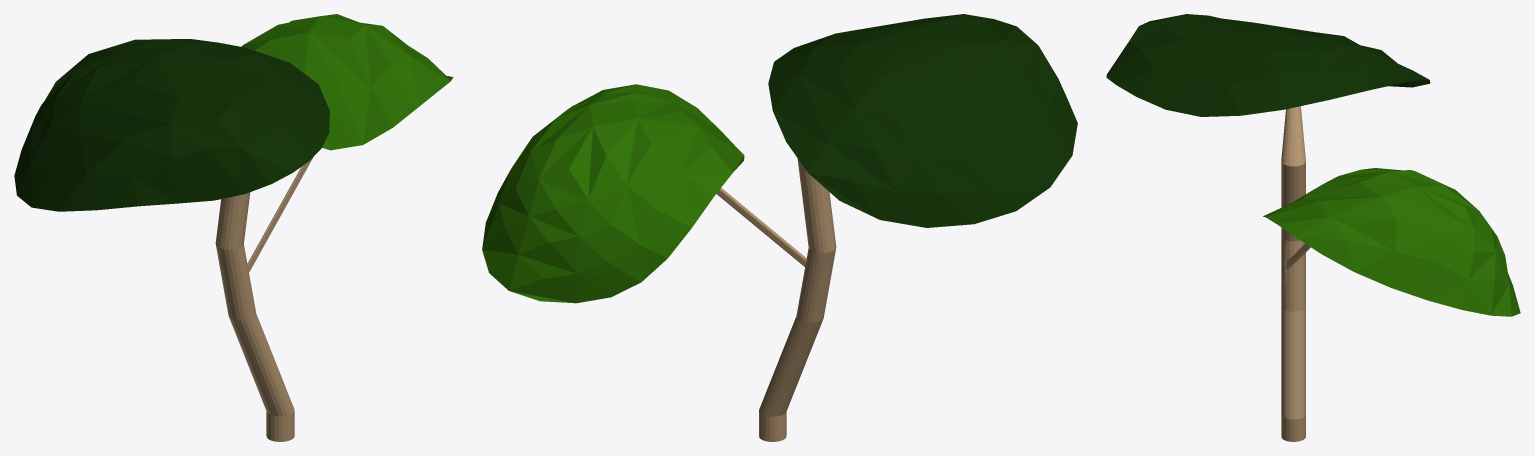
File: arbre 2.fbx
The picture shows the model from 3 angles, left to right: view 1: azimuth 30°, elevation 25°; view 2: azimuth 150°, elevation 25°; view 3: azimuth 270°, elevation 25°; orthographic projection. The views are drawn at different scales.
Parts seen in each view (by area): view 1: polySurface3; view 2: polySurface3; view 3: polySurface3.
Boxes of the visible parts, x1,y1,x2,y2 form: polySurface3: (14,14,453,441); polySurface3: (482,14,1077,441); polySurface3: (1106,14,1520,441).
Size of the model in its own units: 10.97 by 9.03 by 9.57.
